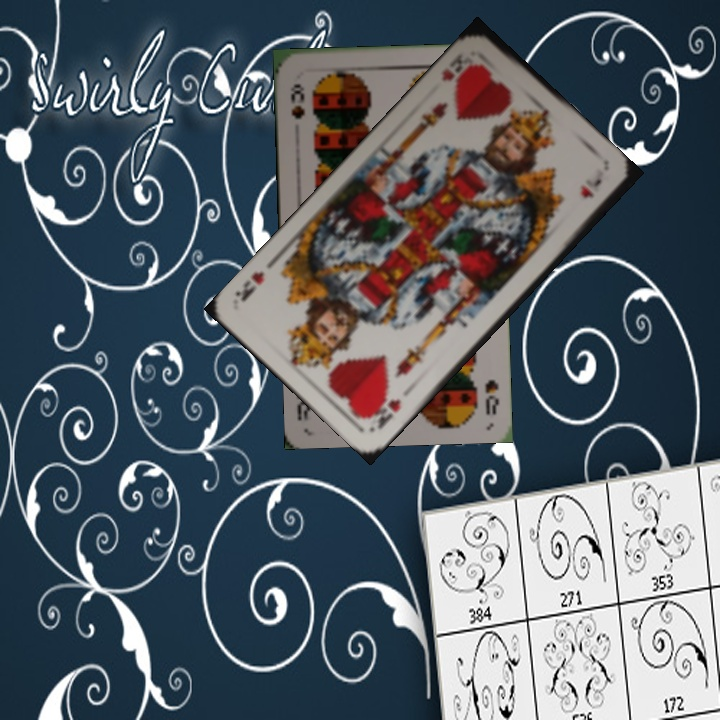HK: (437, 48, 479, 92), (364, 395, 404, 432)
S8: (286, 79, 308, 121), (481, 376, 501, 417)
